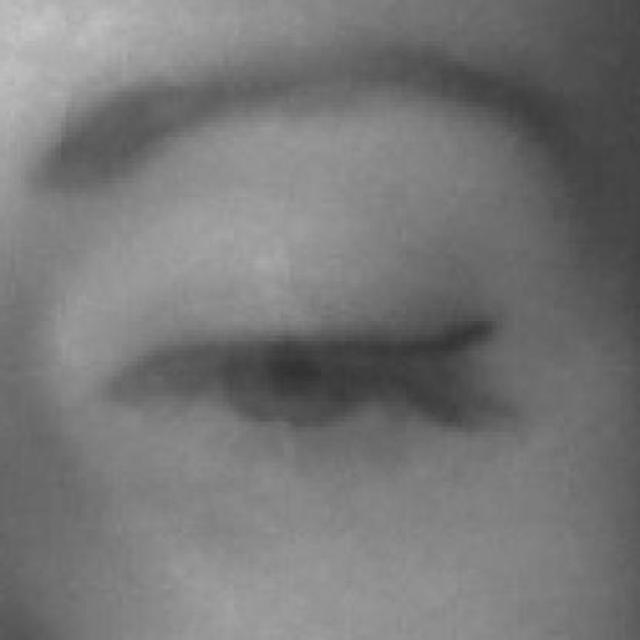drowsy: (110, 188, 518, 570)
